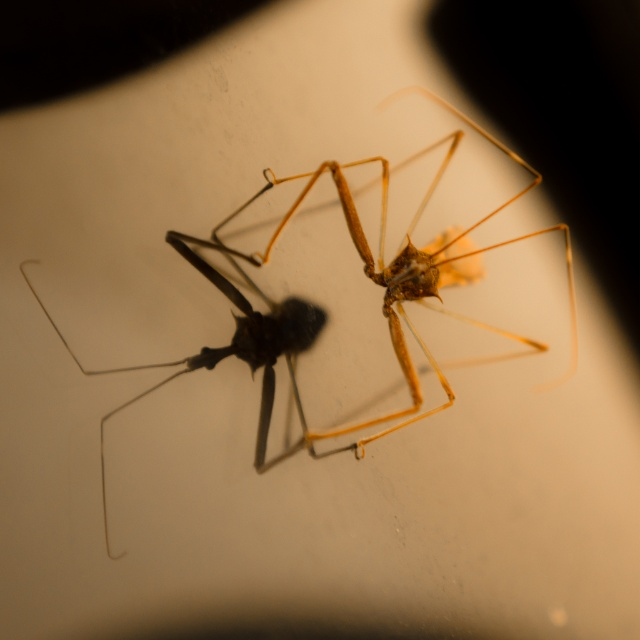Spider: (250, 83, 578, 461)
